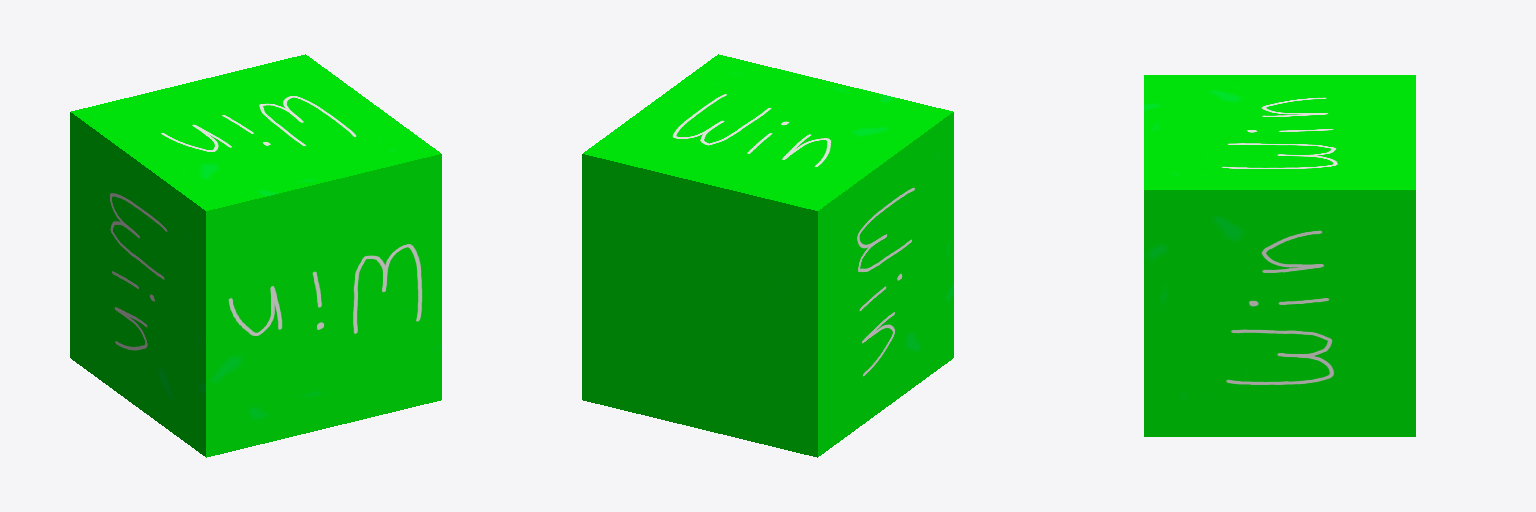
3 views of the same model, side by side, from view 1: azimuth 30°, elevation 25°; view 2: azimuth 150°, elevation 25°; view 3: azimuth 270°, elevation 25° (orthographic).
Visible parts, largest first — view 1: Cube; view 2: Cube; view 3: Cube.
Part boxes in pixels (x1,y1,x2,y2): Cube: (70, 54, 441, 457); Cube: (582, 54, 953, 457); Cube: (1144, 75, 1415, 436).
Size of the model in its own units: 2 by 2 by 2.
1 materials, 1 textured.